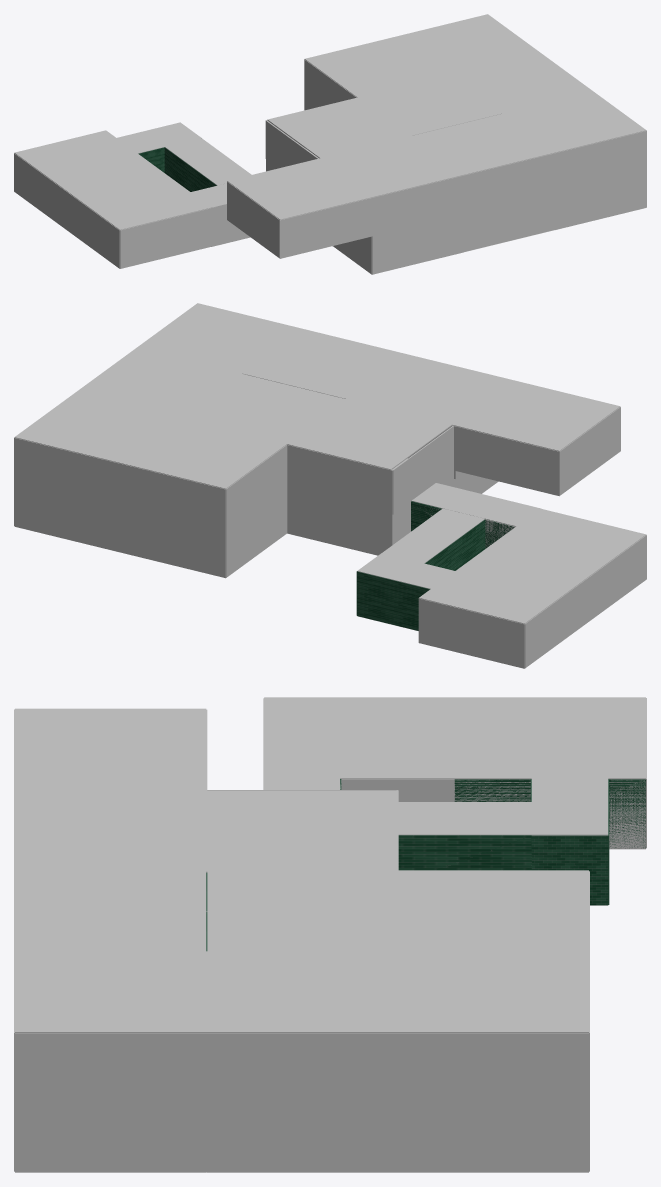
The model's file is Escenario_VaganbundoBellus2.fbx.
The picture shows the model from 3 angles, top to bottom: view 1: azimuth 30°, elevation 25°; view 2: azimuth 150°, elevation 25°; view 3: azimuth 270°, elevation 25°; orthographic projection. The views are drawn at different scales.
Visible parts, largest first — view 1: pasted__pasted__pasted__pasted__pasted__pasted__pasted__past (×20), pasted__pasted__pasted__pasted__pasted__pasted__pasted__pCub (×4), pasted__pasted__pasted__pasted__pasted__pCube12, pasted__pasted__pasted__pasted__pasted__pasted__pCube1, pasted__pasted__pasted__pasted__pCube9, pasted__pasted__pasted__pasted__pasted__pasted__pCube3, pasted__pasted__pasted__pCube9, pasted__pasted__pasted__pasted__pasted__pCube10; view 2: pasted__pasted__pasted__pasted__pasted__pasted__pasted__past (×23), pasted__pasted__pasted__pasted__pasted__pasted__pCube1 (×2), pasted__pasted__pasted__pasted__pasted__pCube12, pasted__pasted__pasted__pCube1, pasted__pasted__pCube1, pasted__pasted__pasted__pasted__pasted__pCube11, pasted__pasted__pasted__pasted__pasted__pasted__pasted__pCub (×2), pasted__pasted__pasted__pasted__pCube1, polySurface8; view 3: pasted__pasted__pasted__pasted__pasted__pasted__pasted__past (×19), pasted__pasted__pasted__pasted__pasted__pasted__pCube1, pasted__pasted__pasted__pasted__pasted__pCube12, pasted__pasted__pasted__pasted__pasted__pasted__pCube5, pasted__pasted__pasted__pasted__pasted__pasted__pasted__pCub, pasted__pasted__pasted__pasted__pasted__pCube1, polySurface9.
Boxes of the visible parts, bbox=[...] form: pasted__pasted__pasted__pasted__pasted__pasted__pasted__past (×20): bbox=[66, 14, 646, 268]; pasted__pasted__pasted__pasted__pasted__pasted__pasted__pCub (×4): bbox=[14, 153, 371, 274]; pasted__pasted__pasted__pasted__pasted__pCube12: bbox=[67, 169, 211, 230]; pasted__pasted__pasted__pasted__pasted__pasted__pCube1: bbox=[14, 130, 158, 191]; pasted__pasted__pasted__pasted__pCube9: bbox=[463, 191, 555, 251]; pasted__pasted__pasted__pasted__pasted__pasted__pCube3: bbox=[120, 208, 211, 268]; pasted__pasted__pasted__pCube9: bbox=[555, 169, 646, 229]; pasted__pasted__pasted__pasted__pasted__pCube10: bbox=[372, 214, 463, 274]; pasted__pasted__pasted__pasted__pasted__pasted__pasted__past (×23): bbox=[14, 303, 646, 668]; pasted__pasted__pasted__pasted__pasted__pasted__pCube1 (×2): bbox=[419, 426, 585, 623]; pasted__pasted__pasted__pasted__pasted__pCube12: bbox=[480, 508, 646, 579]; pasted__pasted__pasted__pCube1: bbox=[120, 508, 225, 577]; pasted__pasted__pCube1: bbox=[14, 482, 119, 551]; pasted__pasted__pasted__pasted__pasted__pCube11: bbox=[287, 489, 392, 555]; pasted__pasted__pasted__pasted__pasted__pasted__pasted__pCub (×2): bbox=[454, 473, 586, 668]; pasted__pasted__pasted__pasted__pCube1: bbox=[226, 489, 287, 577]; polySurface8: bbox=[411, 501, 514, 548]; pasted__pasted__pasted__pasted__pasted__pasted__pasted__past (×19): bbox=[15, 708, 645, 1102]; pasted__pasted__pasted__pasted__pasted__pasted__pCube1: bbox=[454, 697, 645, 778]; pasted__pasted__pasted__pasted__pasted__pCube12: bbox=[264, 697, 455, 778]; pasted__pasted__pasted__pasted__pasted__pasted__pCube5: bbox=[206, 1102, 398, 1172]; pasted__pasted__pasted__pasted__pasted__pasted__pasted__pCub: bbox=[15, 1102, 206, 1172]; pasted__pasted__pasted__pasted__pasted__pCube1: bbox=[397, 1102, 588, 1172]; polySurface9: bbox=[454, 779, 645, 848].
Bounding box in the file's own units: 50.08 × 8.1 × 33.08.
